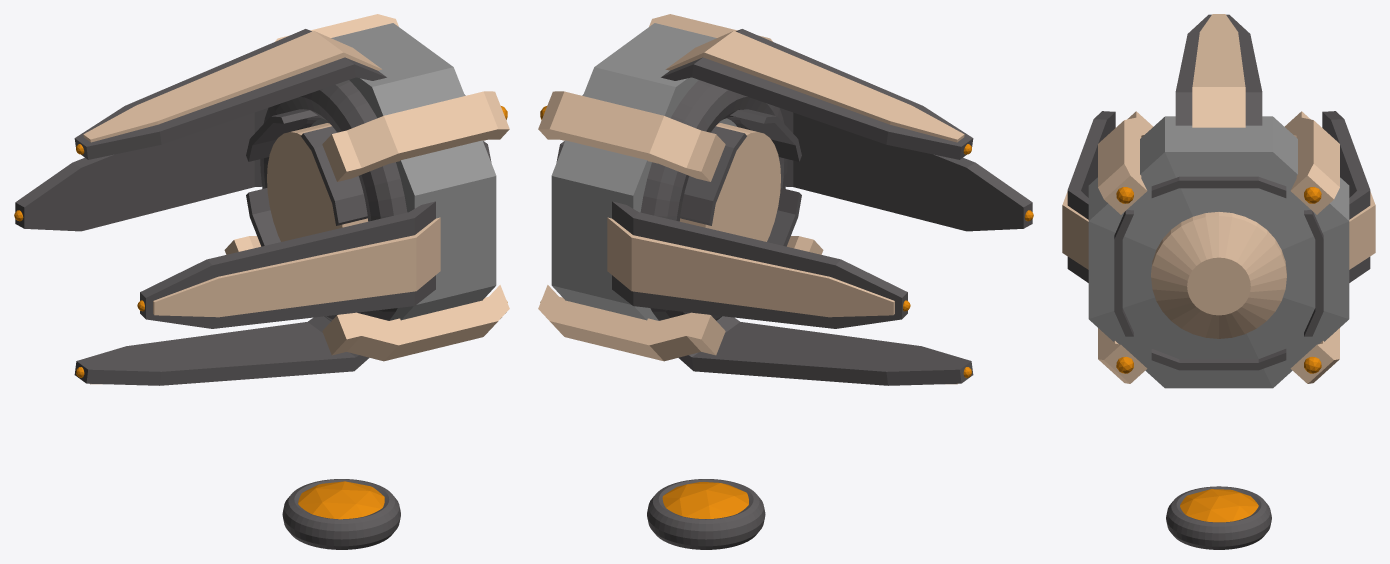
Rendered from Fahrzeug und Weg (Modus Zug).fbx.
3 renders of one model, left to right at view 1: azimuth 30°, elevation 25°; view 2: azimuth 150°, elevation 25°; view 3: azimuth 270°, elevation 25°, orthographic. The views are drawn at different scales.
Visible parts, largest first — view 1: Torus.001, Cube.002; view 2: Torus.001, Cube.002; view 3: Torus.001, Cube.002.
Boxes of the visible parts, <box> form: Torus.001: <box>14,14,509,385</box>; Cube.002: <box>282,479,400,549</box>; Torus.001: <box>538,14,1033,385</box>; Cube.002: <box>647,479,765,549</box>; Torus.001: <box>1062,14,1375,388</box>; Cube.002: <box>1166,486,1271,549</box>.
Bounding box in the file's own units: 507 × 630 × 400.
